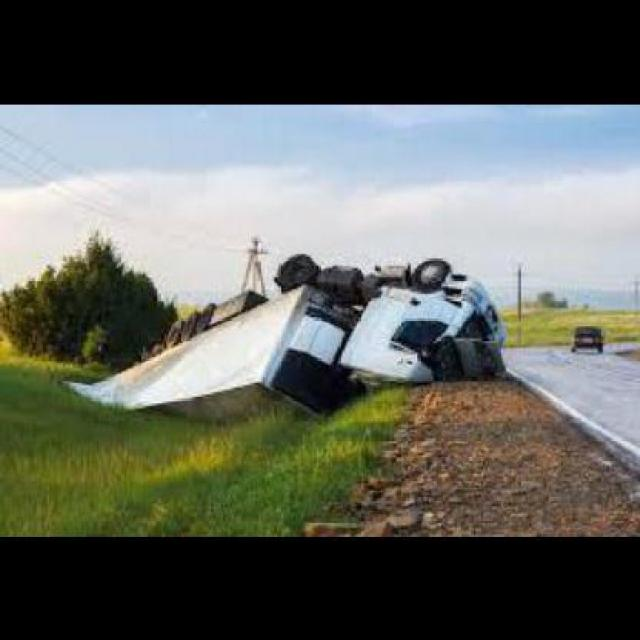accident: (86, 245, 511, 420)
